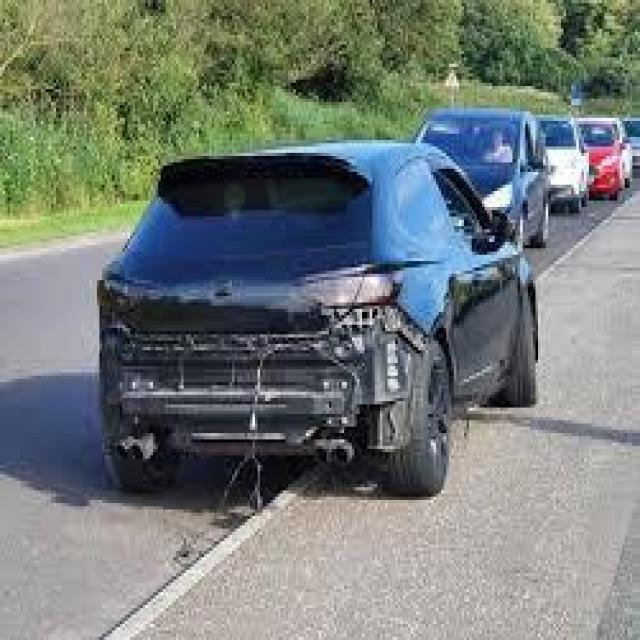damaged: (107, 306, 431, 456)
